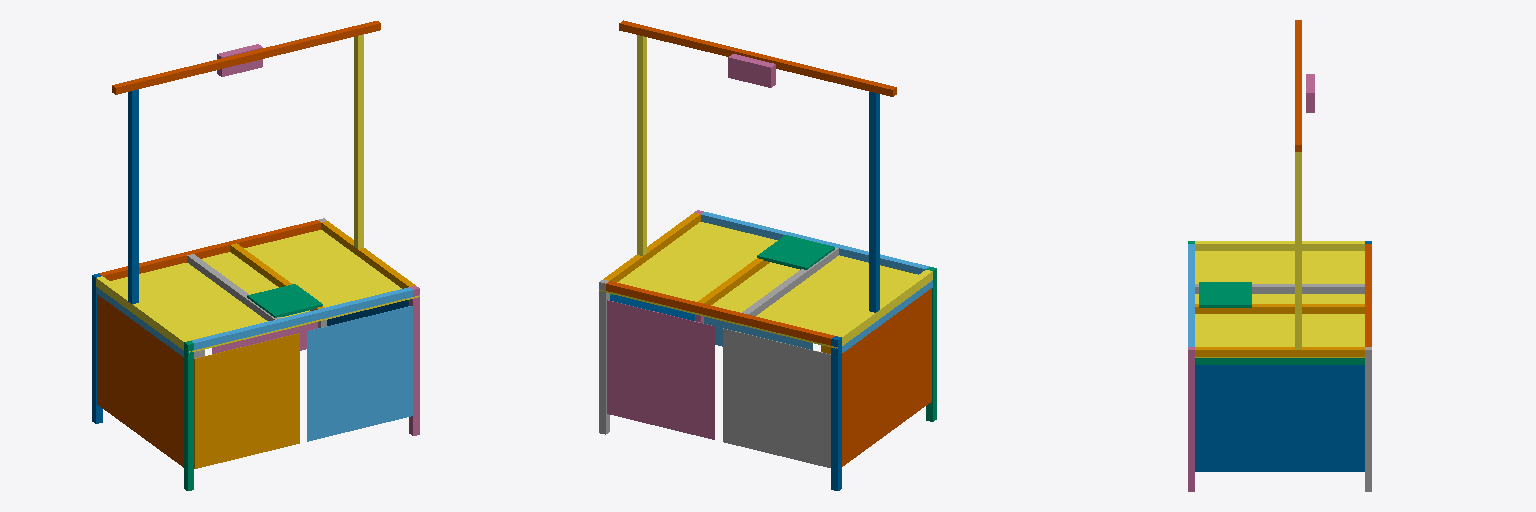
--- What the picture shows (computed from the rendered views, not written in the file) ---
The picture shows the robot from 3 angles, left to right: view 1: azimuth 30°, elevation 25°; view 2: azimuth 150°, elevation 25°; view 3: azimuth 270°, elevation 25°; orthographic projection.
Model ur5_rg2 with 43 links and 42 joints (12 revolute, 30 fixed), rooted at world, posed all joints at 0.
Visible links, largest first — view 1: obstacle_16, obstacle_22, obstacle_21, obstacle_18, obstacle_2, obstacle_1, obstacle_6, obstacle_0, obstacle_10, obstacle_23, obstacle_7, obstacle_11 (+9 smaller); view 2: obstacle_16, obstacle_20, obstacle_19, obstacle_18, obstacle_2, obstacle_10, obstacle_1, obstacle_0, obstacle_6, obstacle_9, obstacle_23, obstacle_12 (+9 smaller); view 3: obstacle_17, obstacle_16, obstacle_13, obstacle_8, obstacle_5, obstacle_0, obstacle_23, obstacle_15, obstacle_4, obstacle_11, obstacle_12, obstacle_2 (+2 smaller).
Boxes of the visible links, bbox=[...] form: obstacle_16: bbox=[96, 230, 419, 352]; obstacle_22: bbox=[307, 306, 412, 441]; obstacle_21: bbox=[194, 333, 299, 468]; obstacle_18: bbox=[97, 294, 183, 467]; obstacle_2: bbox=[112, 21, 380, 94]; obstacle_1: bbox=[128, 89, 138, 303]; obstacle_6: bbox=[191, 287, 412, 349]; obstacle_0: bbox=[354, 34, 363, 248]; obstacle_10: bbox=[99, 220, 320, 280]; obstacle_23: bbox=[247, 284, 322, 317]; obstacle_7: bbox=[184, 341, 193, 490]; obstacle_11: bbox=[409, 286, 419, 435]; obstacle_16: bbox=[599, 222, 932, 348]; obstacle_20: bbox=[723, 328, 830, 467]; obstacle_19: bbox=[607, 300, 714, 439]; obstacle_18: bbox=[842, 288, 931, 466]; obstacle_2: bbox=[619, 20, 896, 96]; obstacle_10: bbox=[606, 281, 834, 345]; obstacle_1: bbox=[869, 92, 879, 312]; obstacle_0: bbox=[637, 35, 646, 255]; obstacle_6: bbox=[701, 212, 929, 274]; obstacle_9: bbox=[831, 336, 841, 490]; obstacle_23: bbox=[757, 235, 834, 269]; obstacle_12: bbox=[599, 279, 609, 434]; obstacle_17: bbox=[1195, 365, 1364, 471]; obstacle_16: bbox=[1195, 251, 1364, 357]; obstacle_13: bbox=[1195, 347, 1364, 356]; obstacle_8: bbox=[1195, 241, 1364, 250]; obstacle_5: bbox=[1195, 304, 1364, 313]; obstacle_0: bbox=[1295, 152, 1301, 349]; obstacle_23: bbox=[1199, 282, 1251, 307]; obstacle_15: bbox=[1195, 358, 1364, 364]; obstacle_4: bbox=[1195, 284, 1364, 293]; obstacle_11: bbox=[1188, 347, 1194, 491]; obstacle_12: bbox=[1365, 347, 1371, 491]; obstacle_2: bbox=[1295, 20, 1301, 151].
Bounding box of the posed robot: 1.6 × 1 × 2.12 m (x, y, z).
0 mesh visuals loaded from 14 distinct referenced files (none loaded); not drawn: 14 (reference not matched to a file when rendering).

robot.urdf — ur5_rg2:
<?xml version="1.0" ?>
<!-- =================================================================================== -->
<!-- |    This document was autogenerated by xacro from collaborative_cell.xacro       | -->
<!-- |    EDITING THIS FILE BY HAND IS NOT RECOMMENDED                                 | -->
<!-- =================================================================================== -->
<robot name="ur5_rg2">
  <!-- measured from model -->
  <!--property name="shoulder_height" value="0.089159" /-->
  <!--property name="shoulder_offset" value="0.13585" /-->
  <!-- shoulder_offset - elbow_offset + wrist_1_length = 0.10915 -->
  <!--property name="upper_arm_length" value="0.42500" /-->
  <!--property name="elbow_offset" value="0.1197" /-->
  <!-- CAD measured -->
  <!--property name="forearm_length" value="0.39225" /-->
  <!--property name="wrist_1_length" value="0.093" /-->
  <!-- CAD measured -->
  <!--property name="wrist_2_length" value="0.09465" /-->
  <!-- In CAD this distance is 0.930, but in the spec it is 0.09465 -->
  <!--property name="wrist_3_length" value="0.0823" /-->
  <!-- manually measured -->
  <link name="base_link">
    <visual>
      <geometry>
        <mesh filename="package://acroba_resources/meshes/ur5/visual/base.dae"/>
      </geometry>
      <material name="LightGrey">
        <color rgba="0.7 0.7 0.7 1.0"/>
      </material>
    </visual>
    <collision>
      <geometry>
        <mesh filename="package://acroba_resources/meshes/ur5/collision/base.stl"/>
      </geometry>
    </collision>
    <inertial>
      <mass value="4.0"/>
      <origin rpy="0 0 0" xyz="0.0 0.0 0.0"/>
      <inertia ixx="0.00443333156" ixy="0.0" ixz="0.0" iyy="0.00443333156" iyz="0.0" izz="0.0072"/>
    </inertial>
  </link>
  <joint name="shoulder_pan_joint" type="revolute">
    <parent link="base_link"/>
    <child link="shoulder_link"/>
    <origin rpy="0.0 0.0 0.0" xyz="0.0 0.0 0.089159"/>
    <axis xyz="0 0 1"/>
    <limit effort="150.0" lower="-6.283185307179586" upper="6.283185307179586" velocity="3.15"/>
    <dynamics damping="0.0" friction="0.0"/>
  </joint>
  <link name="shoulder_link">
    <visual>
      <geometry>
        <mesh filename="package://acroba_resources/meshes/ur5/visual/shoulder.dae"/>
      </geometry>
      <material name="LightGrey">
        <color rgba="0.7 0.7 0.7 1.0"/>
      </material>
    </visual>
    <collision>
      <geometry>
        <mesh filename="package://acroba_resources/meshes/ur5/collision/shoulder.stl"/>
      </geometry>
    </collision>
    <inertial>
      <mass value="3.7"/>
      <origin rpy="0 0 0" xyz="0.0 0.0 0.0"/>
      <inertia ixx="0.010267495893" ixy="0.0" ixz="0.0" iyy="0.010267495893" iyz="0.0" izz="0.00666"/>
    </inertial>
  </link>
  <joint name="shoulder_lift_joint" type="revolute">
    <parent link="shoulder_link"/>
    <child link="upper_arm_link"/>
    <origin rpy="0.0 1.5707963267948966 0.0" xyz="0.0 0.13585 0.0"/>
    <axis xyz="0 1 0"/>
    <limit effort="150.0" lower="-6.283185307179586" upper="6.283185307179586" velocity="3.15"/>
    <dynamics damping="0.0" friction="0.0"/>
  </joint>
  <link name="upper_arm_link">
    <visual>
      <geometry>
        <mesh filename="package://acroba_resources/meshes/ur5/visual/upperarm.dae"/>
      </geometry>
      <material name="LightGrey">
        <color rgba="0.7 0.7 0.7 1.0"/>
      </material>
    </visual>
    <collision>
      <geometry>
        <mesh filename="package://acroba_resources/meshes/ur5/collision/upperarm.stl"/>
      </geometry>
    </collision>
    <inertial>
      <mass value="8.393"/>
      <origin rpy="0 0 0" xyz="0.0 0.0 0.28"/>
      <inertia ixx="0.22689067591036005" ixy="0.0" ixz="0.0" iyy="0.22689067591036005" iyz="0.0" izz="0.0151074"/>
    </inertial>
  </link>
  <joint name="elbow_joint" type="revolute">
    <parent link="upper_arm_link"/>
    <child link="forearm_link"/>
    <origin rpy="0.0 0.0 0.0" xyz="0.0 -0.1197 0.425"/>
    <axis xyz="0 1 0"/>
    <limit effort="150.0" lower="-3.141592653589793" upper="3.141592653589793" velocity="3.15"/>
    <dynamics damping="0.0" friction="0.0"/>
  </joint>
  <link name="forearm_link">
    <visual>
      <geometry>
        <mesh filename="package://acroba_resources/meshes/ur5/visual/forearm.dae"/>
      </geometry>
      <material name="LightGrey">
        <color rgba="0.7 0.7 0.7 1.0"/>
      </material>
    </visual>
    <collision>
      <geometry>
        <mesh filename="package://acroba_resources/meshes/ur5/collision/forearm.stl"/>
      </geometry>
    </collision>
    <inertial>
      <mass value="2.275"/>
      <origin rpy="0 0 0" xyz="0.0 0.0 0.196125"/>
      <inertia ixx="0.03121679102890359" ixy="0.0" ixz="0.0" iyy="0.03121679102890359" iyz="0.0" izz="0.004095"/>
    </inertial>
  </link>
  <joint name="wrist_1_joint" type="revolute">
    <parent link="forearm_link"/>
    <child link="wrist_1_link"/>
    <origin rpy="0.0 1.5707963267948966 0.0" xyz="0.0 0.0 0.39225"/>
    <axis xyz="0 1 0"/>
    <limit effort="28.0" lower="-6.283185307179586" upper="6.283185307179586" velocity="3.2"/>
    <dynamics damping="0.0" friction="0.0"/>
  </joint>
  <link name="wrist_1_link">
    <visual>
      <geometry>
        <mesh filename="package://acroba_resources/meshes/ur5/visual/wrist1.dae"/>
      </geometry>
      <material name="LightGrey">
        <color rgba="0.7 0.7 0.7 1.0"/>
      </material>
    </visual>
    <collision>
      <geometry>
        <mesh filename="package://acroba_resources/meshes/ur5/collision/wrist1.stl"/>
      </geometry>
    </collision>
    <inertial>
      <mass value="1.219"/>
      <origin rpy="0 0 0" xyz="0.0 0.093 0.0"/>
      <inertia ixx="0.0025598989760400002" ixy="0.0" ixz="0.0" iyy="0.0025598989760400002" iyz="0.0" izz="0.0021942"/>
    </inertial>
  </link>
  <joint name="wrist_2_joint" type="revolute">
    <parent link="wrist_1_link"/>
    <child link="wrist_2_link"/>
    <origin rpy="0.0 0.0 0.0" xyz="0.0 0.093 0.0"/>
    <axis xyz="0 0 1"/>
    <limit effort="28.0" lower="-6.283185307179586" upper="6.283185307179586" velocity="3.2"/>
    <dynamics damping="0.0" friction="0.0"/>
  </joint>
  <link name="wrist_2_link">
    <visual>
      <geometry>
        <mesh filename="package://acroba_resources/meshes/ur5/visual/wrist2.dae"/>
      </geometry>
      <material name="LightGrey">
        <color rgba="0.7 0.7 0.7 1.0"/>
      </material>
    </visual>
    <collision>
      <geometry>
        <mesh filename="package://acroba_resources/meshes/ur5/collision/wrist2.stl"/>
      </geometry>
    </collision>
    <inertial>
      <mass value="1.219"/>
      <origin rpy="0 0 0" xyz="0.0 0.0 0.09465"/>
      <inertia ixx="0.0025598989760400002" ixy="0.0" ixz="0.0" iyy="0.0025598989760400002" iyz="0.0" izz="0.0021942"/>
    </inertial>
  </link>
  <joint name="wrist_3_joint" type="revolute">
    <parent link="wrist_2_link"/>
    <child link="wrist_3_link"/>
    <origin rpy="0.0 0.0 0.0" xyz="0.0 0.0 0.09465"/>
    <axis xyz="0 1 0"/>
    <limit effort="28.0" lower="-6.283185307179586" upper="6.283185307179586" velocity="3.2"/>
    <dynamics damping="0.0" friction="0.0"/>
  </joint>
  <link name="wrist_3_link">
    <visual>
      <geometry>
        <mesh filename="package://acroba_resources/meshes/ur5/visual/wrist3.dae"/>
      </geometry>
      <material name="LightGrey">
        <color rgba="0.7 0.7 0.7 1.0"/>
      </material>
    </visual>
    <collision>
      <geometry>
        <mesh filename="package://acroba_resources/meshes/ur5/collision/wrist3.stl"/>
      </geometry>
    </collision>
    <inertial>
      <mass value="0.1879"/>
      <origin rpy="1.5707963267948966 0 0" xyz="0.0 0.06505 0.0"/>
      <inertia ixx="8.469589112163e-05" ixy="0.0" ixz="0.0" iyy="8.469589112163e-05" iyz="0.0" izz="0.0001321171875"/>
    </inertial>
  </link>
  <joint name="ee_fixed_joint" type="fixed">
    <parent link="wrist_3_link"/>
    <child link="ee_link"/>
    <origin rpy="0.0 0.0 1.5707963267948966" xyz="0.0 0.0823 0.0"/>
  </joint>
  <link name="ee_link">
    <collision>
      <geometry>
        <box size="0.01 0.01 0.01"/>
      </geometry>
      <origin rpy="0 0 0" xyz="-0.01 0 0"/>
    </collision>
  </link>
  <!-- ROS base_link to UR 'Base' Coordinates transform -->
  <link name="base"/>
  <joint name="base_link-base_fixed_joint" type="fixed">
    <!-- NOTE: this rotation is only needed as long as base_link itself is
                 not corrected wrt the real robot (ie: rotated over 180
                 degrees)
      -->
    <origin rpy="0 0 -3.141592653589793" xyz="0 0 0"/>
    <parent link="base_link"/>
    <child link="base"/>
  </joint>
  <!-- Frame coincident with all-zeros TCP on UR controller -->
  <link name="tool0"/>
  <joint name="wrist_3_link-tool0_fixed_joint" type="fixed">
    <origin rpy="-1.5707963267948966 0 0" xyz="0 0.0823 0"/>
    <parent link="wrist_3_link"/>
    <child link="tool0"/>
  </joint>
  <link name="base_tool">
    </link>
  <joint name="base_tool_joint" type="fixed">
    <parent link="base_tool"/>
    <child link="hand_link"/>
    <origin rpy="1.570796327 -1.570796327 0" xyz="0.000 0.000 0.000"/>
  </joint>
  <link name="hand_link">
    <collision>
      <origin rpy="0.00 0.00 0.00" xyz="0.00 0.00 0.00"/>
      <geometry>
        <mesh filename="package://acroba_resources/meshes/rg2/collision/RG2_Hand_col.STL"/>
      </geometry>
    </collision>
    <visual>
      <origin rpy="0.00 0.00 0.00" xyz="0.00 0.00 0.00"/>
      <geometry>
        <mesh filename="package://acroba_resources/meshes/rg2/visual/RG2_Hand_vis.STL"/>
      </geometry>
    </visual>
    <!-- <inertial>
            <origin xyz="0.058091 0.000192 -0.000016" rpy="0.00 0.00 0.00"/>
            <mass value="0.524520"/>
            <inertia ixx="0.000193" ixy="0.000000" ixz="0.000000"
                     iyy="0.000564" iyz="-0.000001"
                     izz="0.000636" />
        </inertial> -->
    <inertial>
      <origin rpy="0.00 0.00 0.00" xyz="0.061902 0.000129 -0.000005"/>
      <mass value="1.684558"/>
      <inertia ixx="0.000862" ixy="0.000000" ixz="0.000000" iyy="0.002401" iyz="-0.000001" izz="0.002620"/>
    </inertial>
  </link>
  <!-- Jari Kiri -->
  <joint name="gripper_joint" type="revolute">
    <parent link="hand_link"/>
    <child link="l_moment_arm_link"/>
    <origin rpy="0 0 0" xyz="0.105 0.017 0.010"/>
    <axis xyz="0 0 1"/>
    <limit effort="10.6" lower="-0.45" upper="1.570796327" velocity="3.14"/>
    <!-- <limit velocity="3.14" effort="100" lower="-3" upper="3" /> -->
    <dynamics damping="0.1" friction="0.0"/>
    <implicitSpringDamper>True</implicitSpringDamper>
  </joint>
  <link name="l_moment_arm_link">
    <collision>
      <origin rpy="0.00 0.00 0.00" xyz="0.00 0.00 0.00"/>
      <geometry>
        <mesh filename="package://acroba_resources/meshes/rg2/collision/RG2_LeftMomentArm_col.STL"/>
      </geometry>
    </collision>
    <visual>
      <origin rpy="0.00 0.00 0.00" xyz="0.00 0.00 0.00"/>
      <geometry>
        <mesh filename="package://acroba_resources/meshes/rg2/visual/RG2_LeftMomentArm_vis.STL"/>
      </geometry>
    </visual>
    <inertial>
      <origin rpy="0.00 0.00 0.00" xyz="0.017004 0.006397 -0.010300"/>
      <mass value="0.160209"/>
      <inertia ixx="0.000023" ixy="0.000019" ixz="0.000000" iyy="0.000072" iyz="0.000000" izz="0.000083"/>
    </inertial>
  </link>
  <joint name="l_finger_2_joint" type="revolute">
    <parent link="l_moment_arm_link"/>
    <child link="l_finger_link"/>
    <origin rpy="0 0 0" xyz="0.049 0.026 0.000"/>
    <axis xyz="0 0 1"/>
    <limit effort="10.6" lower="-1.570796327" upper="1.570796327" velocity="3.14"/>
    <!-- <limit velocity="3.14" effort="100" lower="-3" upper="3" /> -->
    <mimic joint="gripper_joint" multiplier="-1"/>
    <dynamics damping="0.1" friction="0.0"/>
    <implicitSpringDamper>True</implicitSpringDamper>
  </joint>
  <link name="l_finger_link">
    <collision>
      <origin rpy="0.00 0.00 0.00" xyz="0.00 0.00 0.00"/>
      <geometry>
        <mesh filename="package://acroba_resources/meshes/rg2/collision/RG2_LeftFinger_col.stl"/>
      </geometry>
    </collision>
    <visual>
      <origin rpy="0.00 0.00 0.00" xyz="0.00 0.00 0.00"/>
      <geometry>
        <mesh filename="package://acroba_resources/meshes/rg2/visual/RG2_LeftFinger_vis.STL"/>
      </geometry>
    </visual>
    <inertial>
      <origin rpy="0.00 0.00 0.00" xyz="0.024695 -0.010178 -0.010001"/>
      <mass value="0.081638"/>
      <inertia ixx="0.000006" ixy="-0.000005" ixz="0.000000" iyy="0.000025" iyz="0.000000" izz="0.000026"/>
    </inertial>
  </link>
  <joint name="l_finger_passive_joint" type="revolute">
    <parent link="hand_link"/>
    <child link="l_truss_arm_link"/>
    <origin rpy="0 0 0" xyz="0.122 0.008 0.010"/>
    <axis xyz="0 0 1"/>
    <limit effort="10.6" lower="-1.570796327" upper="1.570796327" velocity="3.14"/>
    <!-- <limit velocity="3.14" effort="100" lower="-3" upper="3" /> -->
    <mimic joint="gripper_joint" multiplier="1"/>
    <dynamics damping="0.1" friction="0.0"/>
    <implicitSpringDamper>True</implicitSpringDamper>
  </joint>
  <!-- <xacro:insert_transmission name="l_finger_passive_joint" /> -->
  <link name="l_truss_arm_link">
    <collision>
      <origin rpy="0.00 0.00 0.00" xyz="0.00 0.00 0.00"/>
      <geometry>
        <mesh filename="package://acroba_resources/meshes/rg2/collision/RG2_LeftTrussArm_col.STL"/>
      </geometry>
    </collision>
    <visual>
      <origin rpy="0.00 0.00 0.00" xyz="0.00 0.00 0.00"/>
      <geometry>
        <mesh filename="package://acroba_resources/meshes/rg2/visual/RG2_LeftTrussArm_vis.STL"/>
      </geometry>
    </visual>
    <inertial>
      <origin rpy="0.00 0.00 0.00" xyz="0.023075 0.012136 -0.010000"/>
      <mass value="0.065927"/>
      <inertia ixx="0.000010" ixy="0.000010" ixz="0.000000" iyy="0.000024" iyz="0.000000" izz="0.000025"/>
    </inertial>
  </link>
  <!-- Jari Kanan -->
  <joint name="r_finger_1_joint" type="revolute">
    <parent link="hand_link"/>
    <child link="r_moment_arm_link"/>
    <origin rpy="0 0 0" xyz="0.105 -0.017 0.010"/>
    <axis xyz="0 0 1"/>
    <limit effort="10.6" lower="-1.570796327" upper="1.570796327" velocity="3.14"/>
    <!-- <limit velocity="3.14" effort="100" lower="-3" upper="3" /> -->
    <mimic joint="gripper_joint" multiplier="-1"/>
    <dynamics damping="0.1" friction="0.0"/>
    <implicitSpringDamper>True</implicitSpringDamper>
  </joint>
  <link name="r_moment_arm_link">
    <collision>
      <origin rpy="0.00 0.00 0.00" xyz="0.00 0.00 0.00"/>
      <geometry>
        <mesh filename="package://acroba_resources/meshes/rg2/collision/RG2_RightMomentArm_col.STL"/>
      </geometry>
    </collision>
    <visual>
      <origin rpy="0.00 0.00 0.00" xyz="0.00 0.00 0.00"/>
      <geometry>
        <mesh filename="package://acroba_resources/meshes/rg2/visual/RG2_RightMomentArm_vis.STL"/>
      </geometry>
    </visual>
    <inertial>
      <origin rpy="0.00 0.00 0.00" xyz="0.017004 -0.006397 -0.010300"/>
      <mass value="0.160209"/>
      <inertia ixx="0.000023" ixy="-0.000019" ixz="0.000000" iyy="0.000072" iyz="0.000000" izz="0.000083"/>
    </inertial>
  </link>
  <joint name="r_finger_2_joint" type="revolute">
    <parent link="r_moment_arm_link"/>
    <child link="r_finger_link"/>
    <origin rpy="0 0 0" xyz="0.049 -0.026 0.000"/>
    <axis xyz="0 0 1"/>
    <limit effort="10.6" lower="-1.570796327" upper="1.570796327" velocity="3.14"/>
    <!-- <limit velocity="3.14" effort="100" lower="-3" upper="3" /> -->
    <mimic joint="gripper_joint" multiplier="1"/>
    <dynamics damping="0.1" friction="0.0"/>
    <implicitSpringDamper>True</implicitSpringDamper>
  </joint>
  <!-- <xacro:insert_transmission name="r_finger_2_joint" /> -->
  <link name="r_finger_link">
    <collision>
      <origin rpy="0.00 0.00 0.00" xyz="0.00 0.00 0.00"/>
      <geometry>
        <mesh filename="package://acroba_resources/meshes/rg2/collision/RG2_RightFinger_col.stl"/>
      </geometry>
    </collision>
    <visual>
      <origin rpy="0.00 0.00 0.00" xyz="0.00 0.00 0.00"/>
      <geometry>
        <mesh filename="package://acroba_resources/meshes/rg2/visual/RG2_RightFinger_vis.STL"/>
      </geometry>
    </visual>
    <inertial>
      <origin rpy="0.00 0.00 0.00" xyz="0.024695 0.010178 -0.010000"/>
      <mass value="0.081637"/>
      <inertia ixx="0.000006" ixy="0.000005" ixz="0.000000" iyy="0.000025" iyz="0.000000" izz="0.000026"/>
    </inertial>
  </link>
  <joint name="r_finger_passive_joint" type="revolute">
    <parent link="hand_link"/>
    <child link="r_truss_arm_link"/>
    <origin rpy="0 0 0" xyz="0.122 -0.008 0.010"/>
    <axis xyz="0 0 1"/>
    <limit effort="10.6" lower="-1.570796327" upper="1.570796327" velocity="3.14"/>
    <!-- <limit velocity="3.14" effort="100" lower="-3" upper="3" /> -->
    <mimic joint="gripper_joint" multiplier="-1"/>
    <dynamics damping="0.1" friction="0.0"/>
    <implicitSpringDamper>True</implicitSpringDamper>
  </joint>
  <!-- <xacro:insert_transmission name="r_finger_passive_joint" /> -->
  <link name="r_truss_arm_link">
    <collision>
      <origin rpy="0.00 0.00 0.00" xyz="0.00 0.00 0.00"/>
      <geometry>
        <mesh filename="package://acroba_resources/meshes/rg2/collision/RG2_RightTrussArm_col.STL"/>
      </geometry>
    </collision>
    <visual>
      <origin rpy="0.00 0.00 0.00" xyz="0.00 0.00 0.00"/>
      <geometry>
        <mesh filename="package://acroba_resources/meshes/rg2/visual/RG2_RightTrussArm_vis.STL"/>
      </geometry>
    </visual>
    <inertial>
      <origin rpy="0.00 0.00 0.00" xyz="0.023075 -0.012136 -0.010000"/>
      <mass value="0.065927"/>
      <inertia ixx="0.000010" ixy="-0.000010" ixz="0.000000" iyy="0.000024" iyz="0.000000" izz="0.000025"/>
    </inertial>
  </link>
  <disable_collision link1="r_truss_arm_link" link2="l_truss_arm_link"/>
  <disable_collision link1="r_moment_arm_link" link2="l_moment_arm_link"/>
  <disable_collision link1="l_moment_arm_link" link2="r_truss_arm_link"/>
  <disable_collision link1="r_moment_arm_link" link2="l_truss_arm_link"/>
  <disable_collision link1="r_finger_link" link2="l_finger_link"/>
  <link name="world"/>
  <joint name="world_joint" type="fixed">
    <parent link="world"/>
    <child link="base_link"/>
     <origin xyz= "0.719730019569397 0.150999993085861 0.84799998998642" rpy= "0 0 0"/>
  </joint>

  <joint name="tool_joint" type="fixed">
    <parent link="tool0"/>
    <child link="base_tool"/>
    <origin rpy="0.0 0.0 0.0" xyz="0.0 0.0 0.0"/>
  </joint>
  <!-- Disabling collision between tool and robot, maybe not necessary-->
  <disable_collision link1="wrist_3_link" link2="hand_link"/>

  <!-- Obstacles-->
  	<link name = "obstacle_0">
		<visual>
			<origin xyz= "0 0 0" rpy= "0 0 0"/>
			<geometry>
				<box size="0.0400001 -0.04000002 1.23"/>
			</geometry>
		</visual>
		<collision>
			<origin xyz= "0 0 0" rpy= "0 0 0"/>
			<geometry>
				<box size="0.0400001 -0.04000002 1.23"/>
			</geometry>
		</collision>
	</link>
	<joint name="obstacle_0_joint" type="fixed">
		<parent link="world"/>
		<child link="obstacle_0"/>
			<origin xyz= "1.394729 0.5583802 1.447862" rpy= "0 0 0"/>
	</joint>


	<link name = "obstacle_1">
		<visual>
			<origin xyz= "0 0 0" rpy= "0 0 0"/>
			<geometry>
				<box size="0.04000002 -0.04000002 1.23"/>
			</geometry>
		</visual>
		<collision>
			<origin xyz= "0 0 0" rpy= "0 0 0"/>
			<geometry>
				<box size="0.04000002 -0.04000002 1.23"/>
			</geometry>
		</collision>
	</link>
	<joint name="obstacle_1_joint" type="fixed">
		<parent link="world"/>
		<child link="obstacle_1"/>
			<origin xyz= "0.03472755 0.5583802 1.447862" rpy= "0 0 0"/>
	</joint>


	<link name = "obstacle_2">
		<visual>
			<origin xyz= "0 0 0" rpy= "0 0 0"/>
			<geometry>
				<box size="1.600001 -0.04000002 0.03999998"/>
			</geometry>
		</visual>
		<collision>
			<origin xyz= "0 0 0" rpy= "0 0 0"/>
			<geometry>
				<box size="1.600001 -0.04000002 0.03999998"/>
			</geometry>
		</collision>
	</link>
	<joint name="obstacle_2_joint" type="fixed">
		<parent link="world"/>
		<child link="obstacle_2"/>
			<origin xyz= "0.7147281 0.5583802 2.082862" rpy= "0 0 0"/>
	</joint>


	<link name = "obstacle_3">
		<visual>
			<origin xyz= "0 0 0" rpy= "0 0 0"/>
			<geometry>
				<box size="0.2500001 -0.0503 0.1145971"/>
			</geometry>
		</visual>
		<collision>
			<origin xyz= "0 0 0" rpy= "0 0 0"/>
			<geometry>
				<box size="0.2500001 -0.0503 0.1145971"/>
			</geometry>
		</collision>
	</link>
	<joint name="obstacle_3_joint" type="fixed">
		<parent link="world"/>
		<child link="obstacle_3"/>
			<origin xyz= "0.7137278 0.6217302 2.041161" rpy= "0 0 0"/>
	</joint>


	<link name = "obstacle_4">
		<visual>
			<origin xyz= "0 0 0" rpy= "0 0 0"/>
			<geometry>
				<box size="0.04000004 -0.92 0.04000004"/>
			</geometry>
		</visual>
		<collision>
			<origin xyz= "0 0 0" rpy= "0 0 0"/>
			<geometry>
				<box size="0.04000004 -0.92 0.04000004"/>
			</geometry>
		</collision>
	</link>
	<joint name="obstacle_4_joint" type="fixed">
		<parent link="world"/>
		<child link="obstacle_4"/>
			<origin xyz= "0.5847278 0.4583802 0.8128617" rpy= "0 0 0"/>
	</joint>


	<link name = "obstacle_5">
		<visual>
			<origin xyz= "0 0 0" rpy= "0 0 0"/>
			<geometry>
				<box size="0.04000004 -0.92 0.04000004"/>
			</geometry>
		</visual>
		<collision>
			<origin xyz= "0 0 0" rpy= "0 0 0"/>
			<geometry>
				<box size="0.04000004 -0.92 0.04000004"/>
			</geometry>
		</collision>
	</link>
	<joint name="obstacle_5_joint" type="fixed">
		<parent link="world"/>
		<child link="obstacle_5"/>
			<origin xyz= "0.8447279 0.4583802 0.8128617" rpy= "0 0 0"/>
	</joint>


	<link name = "obstacle_6">
		<visual>
			<origin xyz= "0 0 0" rpy= "0 0 0"/>
			<geometry>
				<box size="1.320001 -0.04 0.04000004"/>
			</geometry>
		</visual>
		<collision>
			<origin xyz= "0 0 0" rpy= "0 0 0"/>
			<geometry>
				<box size="1.320001 -0.04 0.04000004"/>
			</geometry>
		</collision>
	</link>
	<joint name="obstacle_6_joint" type="fixed">
		<parent link="world"/>
		<child link="obstacle_6"/>
			<origin xyz= "0.7147281 -0.02161982 0.8128617" rpy= "0 0 0"/>
	</joint>


	<link name = "obstacle_7">
		<visual>
			<origin xyz= "0 0 0" rpy= "0 0 0"/>
			<geometry>
				<box size="0.04000002 -0.04 0.8450004"/>
			</geometry>
		</visual>
		<collision>
			<origin xyz= "0 0 0" rpy= "0 0 0"/>
			<geometry>
				<box size="0.04000002 -0.04 0.8450004"/>
			</geometry>
		</collision>
	</link>
	<joint name="obstacle_7_joint" type="fixed">
		<parent link="world"/>
		<child link="obstacle_7"/>
			<origin xyz= "0.03472755 -0.02161982 0.4103615" rpy= "0 0 0"/>
	</joint>


	<link name = "obstacle_8">
		<visual>
			<origin xyz= "0 0 0" rpy= "0 0 0"/>
			<geometry>
				<box size="0.04000002 -0.92 0.04000004"/>
			</geometry>
		</visual>
		<collision>
			<origin xyz= "0 0 0" rpy= "0 0 0"/>
			<geometry>
				<box size="0.04000002 -0.92 0.04000004"/>
			</geometry>
		</collision>
	</link>
	<joint name="obstacle_8_joint" type="fixed">
		<parent link="world"/>
		<child link="obstacle_8"/>
			<origin xyz= "0.03472755 0.4583802 0.8128617" rpy= "0 0 0"/>
	</joint>


	<link name = "obstacle_9">
		<visual>
			<origin xyz= "0 0 0" rpy= "0 0 0"/>
			<geometry>
				<box size="0.04000002 -0.04000002 0.8450004"/>
			</geometry>
		</visual>
		<collision>
			<origin xyz= "0 0 0" rpy= "0 0 0"/>
			<geometry>
				<box size="0.04000002 -0.04000002 0.8450004"/>
			</geometry>
		</collision>
	</link>
	<joint name="obstacle_9_joint" type="fixed">
		<parent link="world"/>
		<child link="obstacle_9"/>
			<origin xyz= "0.03472755 0.9383802 0.4103615" rpy= "0 0 0"/>
	</joint>


	<link name = "obstacle_10">
		<visual>
			<origin xyz= "0 0 0" rpy= "0 0 0"/>
			<geometry>
				<box size="1.320001 -0.04000002 0.04000004"/>
			</geometry>
		</visual>
		<collision>
			<origin xyz= "0 0 0" rpy= "0 0 0"/>
			<geometry>
				<box size="1.320001 -0.04000002 0.04000004"/>
			</geometry>
		</collision>
	</link>
	<joint name="obstacle_10_joint" type="fixed">
		<parent link="world"/>
		<child link="obstacle_10"/>
			<origin xyz= "0.7147281 0.9383802 0.8128617" rpy= "0 0 0"/>
	</joint>


	<link name = "obstacle_11">
		<visual>
			<origin xyz= "0 0 0" rpy= "0 0 0"/>
			<geometry>
				<box size="0.0400001 -0.04 0.8450004"/>
			</geometry>
		</visual>
		<collision>
			<origin xyz= "0 0 0" rpy= "0 0 0"/>
			<geometry>
				<box size="0.0400001 -0.04 0.8450004"/>
			</geometry>
		</collision>
	</link>
	<joint name="obstacle_11_joint" type="fixed">
		<parent link="world"/>
		<child link="obstacle_11"/>
			<origin xyz= "1.394729 -0.02161982 0.4103615" rpy= "0 0 0"/>
	</joint>


	<link name = "obstacle_12">
		<visual>
			<origin xyz= "0 0 0" rpy= "0 0 0"/>
			<geometry>
				<box size="0.0400001 -0.04000002 0.8450004"/>
			</geometry>
		</visual>
		<collision>
			<origin xyz= "0 0 0" rpy= "0 0 0"/>
			<geometry>
				<box size="0.0400001 -0.04000002 0.8450004"/>
			</geometry>
		</collision>
	</link>
	<joint name="obstacle_12_joint" type="fixed">
		<parent link="world"/>
		<child link="obstacle_12"/>
			<origin xyz= "1.394729 0.9383802 0.4103615" rpy= "0 0 0"/>
	</joint>


	<link name = "obstacle_13">
		<visual>
			<origin xyz= "0 0 0" rpy= "0 0 0"/>
			<geometry>
				<box size="0.0400001 -0.92 0.04000004"/>
			</geometry>
		</visual>
		<collision>
			<origin xyz= "0 0 0" rpy= "0 0 0"/>
			<geometry>
				<box size="0.0400001 -0.92 0.04000004"/>
			</geometry>
		</collision>
	</link>
	<joint name="obstacle_13_joint" type="fixed">
		<parent link="world"/>
		<child link="obstacle_13"/>
			<origin xyz= "1.394729 0.4583802 0.8128617" rpy= "0 0 0"/>
	</joint>


	<link name = "obstacle_14">
		<visual>
			<origin xyz= "0 0 0" rpy= "0 0 0"/>
			<geometry>
				<box size="0.04000002 -0.92 0.04000004"/>
			</geometry>
		</visual>
		<collision>
			<origin xyz= "0 0 0" rpy= "0 0 0"/>
			<geometry>
				<box size="0.04000002 -0.92 0.04000004"/>
			</geometry>
		</collision>
	</link>
	<joint name="obstacle_14_joint" type="fixed">
		<parent link="world"/>
		<child link="obstacle_14"/>
			<origin xyz= "0.03472755 0.4583802 0.7628616" rpy= "0 0 0"/>
	</joint>


	<link name = "obstacle_15">
		<visual>
			<origin xyz= "0 0 0" rpy= "0 0 0"/>
			<geometry>
				<box size="0.0400001 -0.92 0.04000004"/>
			</geometry>
		</visual>
		<collision>
			<origin xyz= "0 0 0" rpy= "0 0 0"/>
			<geometry>
				<box size="0.0400001 -0.92 0.04000004"/>
			</geometry>
		</collision>
	</link>
	<joint name="obstacle_15_joint" type="fixed">
		<parent link="world"/>
		<child link="obstacle_15"/>
			<origin xyz= "1.394729 0.4583802 0.7628616" rpy= "0 0 0"/>
	</joint>


	<link name = "obstacle_16">
		<visual>
			<origin xyz= "0 0 0" rpy= "0 0 0"/>
			<geometry>
				<box size="1.400001 -1 0.009999995"/>
			</geometry>
		</visual>
		<collision>
			<origin xyz= "0 0 0" rpy= "0 0 0"/>
			<geometry>
				<box size="1.400001 -1 0.009999995"/>
			</geometry>
		</collision>
	</link>
	<joint name="obstacle_16_joint" type="fixed">
		<parent link="world"/>
		<child link="obstacle_16"/>
			<origin xyz= "0.7147282 0.4583802 0.7878616" rpy= "0 0 0"/>
	</joint>


	<link name = "obstacle_17">
		<visual>
			<origin xyz= "0 0 0" rpy= "0 0 0"/>
			<geometry>
				<box size="0.003000022 -0.9160001 0.6360003"/>
			</geometry>
		</visual>
		<collision>
			<origin xyz= "0 0 0" rpy= "0 0 0"/>
			<geometry>
				<box size="0.003000022 -0.9160001 0.6360003"/>
			</geometry>
		</collision>
	</link>
	<joint name="obstacle_17_joint" type="fixed">
		<parent link="world"/>
		<child link="obstacle_17"/>
			<origin xyz= "1.410479 0.4583802 0.4228615" rpy= "0 0 0"/>
	</joint>


	<link name = "obstacle_18">
		<visual>
			<origin xyz= "0 0 0" rpy= "0 0 0"/>
			<geometry>
				<box size="0.003000002 -0.9160001 0.6360003"/>
			</geometry>
		</visual>
		<collision>
			<origin xyz= "0 0 0" rpy= "0 0 0"/>
			<geometry>
				<box size="0.003000002 -0.9160001 0.6360003"/>
			</geometry>
		</collision>
	</link>
	<joint name="obstacle_18_joint" type="fixed">
		<parent link="world"/>
		<child link="obstacle_18"/>
			<origin xyz= "0.01897755 0.4583802 0.4228615" rpy= "0 0 0"/>
	</joint>


	<link name = "obstacle_19">
		<visual>
			<origin xyz= "0 0 0" rpy= "0 0 0"/>
			<geometry>
				<box size="0.6360008 -0.002999961 0.6360003"/>
			</geometry>
		</visual>
		<collision>
			<origin xyz= "0 0 0" rpy= "0 0 0"/>
			<geometry>
				<box size="0.6360008 -0.002999961 0.6360003"/>
			</geometry>
		</collision>
	</link>
	<joint name="obstacle_19_joint" type="fixed">
		<parent link="world"/>
		<child link="obstacle_19"/>
			<origin xyz= "1.054728 0.9541302 0.4228615" rpy= "0 0 0"/>
	</joint>


	<link name = "obstacle_20">
		<visual>
			<origin xyz= "0 0 0" rpy= "0 0 0"/>
			<geometry>
				<box size="0.6360003 -0.002999961 0.6360003"/>
			</geometry>
		</visual>
		<collision>
			<origin xyz= "0 0 0" rpy= "0 0 0"/>
			<geometry>
				<box size="0.6360003 -0.002999961 0.6360003"/>
			</geometry>
		</collision>
	</link>
	<joint name="obstacle_20_joint" type="fixed">
		<parent link="world"/>
		<child link="obstacle_20"/>
			<origin xyz= "0.3747277 0.9541302 0.4228615" rpy= "0 0 0"/>
	</joint>


	<link name = "obstacle_21">
		<visual>
			<origin xyz= "0 0 0" rpy= "0 0 0"/>
			<geometry>
				<box size="0.6360003 -0.003000002 0.6360003"/>
			</geometry>
		</visual>
		<collision>
			<origin xyz= "0 0 0" rpy= "0 0 0"/>
			<geometry>
				<box size="0.6360003 -0.003000002 0.6360003"/>
			</geometry>
		</collision>
	</link>
	<joint name="obstacle_21_joint" type="fixed">
		<parent link="world"/>
		<child link="obstacle_21"/>
			<origin xyz= "0.3747277 -0.03736982 0.4228615" rpy= "0 0 0"/>
	</joint>


	<link name = "obstacle_22">
		<visual>
			<origin xyz= "0 0 0" rpy= "0 0 0"/>
			<geometry>
				<box size="0.6360008 -0.003000002 0.6360003"/>
			</geometry>
		</visual>
		<collision>
			<origin xyz= "0 0 0" rpy= "0 0 0"/>
			<geometry>
				<box size="0.6360008 -0.003000002 0.6360003"/>
			</geometry>
		</collision>
	</link>
	<joint name="obstacle_22_joint" type="fixed">
		<parent link="world"/>
		<child link="obstacle_22"/>
			<origin xyz= "1.054728 -0.03736982 0.4228615" rpy= "0 0 0"/>
	</joint>


	<link name = "obstacle_23">
		<visual>
			<origin xyz= "0 0 0" rpy= "0 0 0"/>
			<geometry>
				<box size="0.2900002 -0.29 0.01800002"/>
			</geometry>
		</visual>
		<collision>
			<origin xyz= "0 0 0" rpy= "0 0 0"/>
			<geometry>
				<box size="0.2900002 -0.29 0.01800002"/>
			</geometry>
		</collision>
	</link>
	<joint name="obstacle_23_joint" type="fixed">
		<parent link="world"/>
		<child link="obstacle_23"/>
			<origin xyz= "0.7197279 0.1633802 0.8368617" rpy= "0 0 0"/>
	</joint>


</robot>
